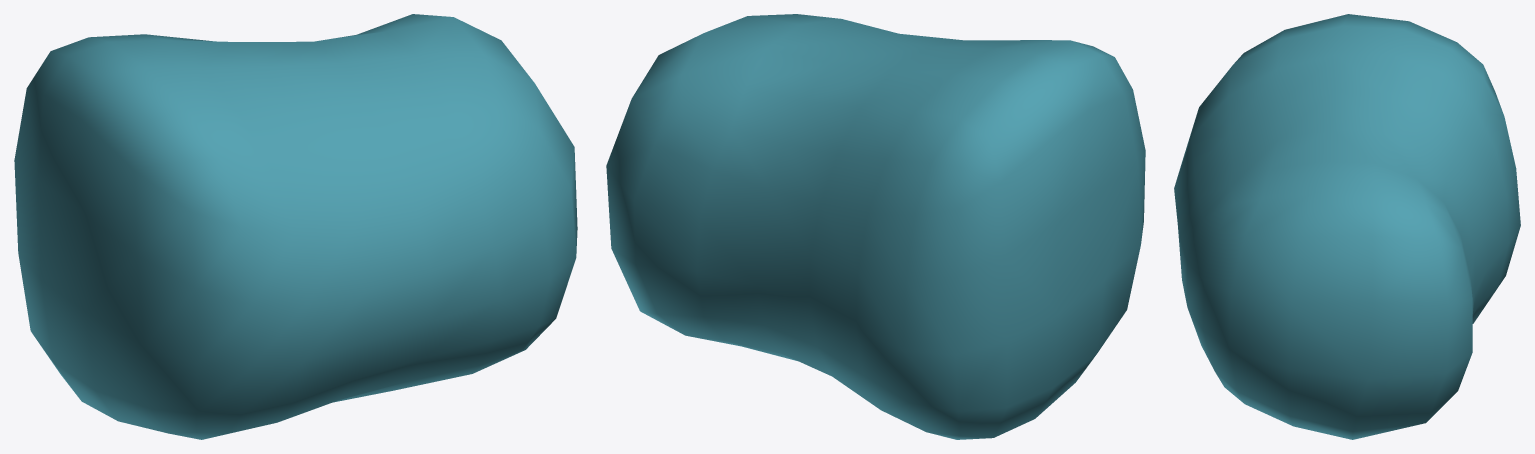
The model's file is VIS_Alpha_Surface_022.dae.
The picture shows the model from 3 angles, left to right: view 1: azimuth 30°, elevation 25°; view 2: azimuth 150°, elevation 25°; view 3: azimuth 270°, elevation 25°; orthographic projection. The views are drawn at different scales.
Parts seen in each view (by area): view 1: VIS_Alpha_Surface_022; view 2: VIS_Alpha_Surface_022; view 3: VIS_Alpha_Surface_022.
Boxes of the visible parts, <box> form: VIS_Alpha_Surface_022: <box>14,14,577,439</box>; VIS_Alpha_Surface_022: <box>606,14,1145,439</box>; VIS_Alpha_Surface_022: <box>1174,14,1520,439</box>.
Size of the model in its own units: 3.47 by 2.76 by 2.6.
